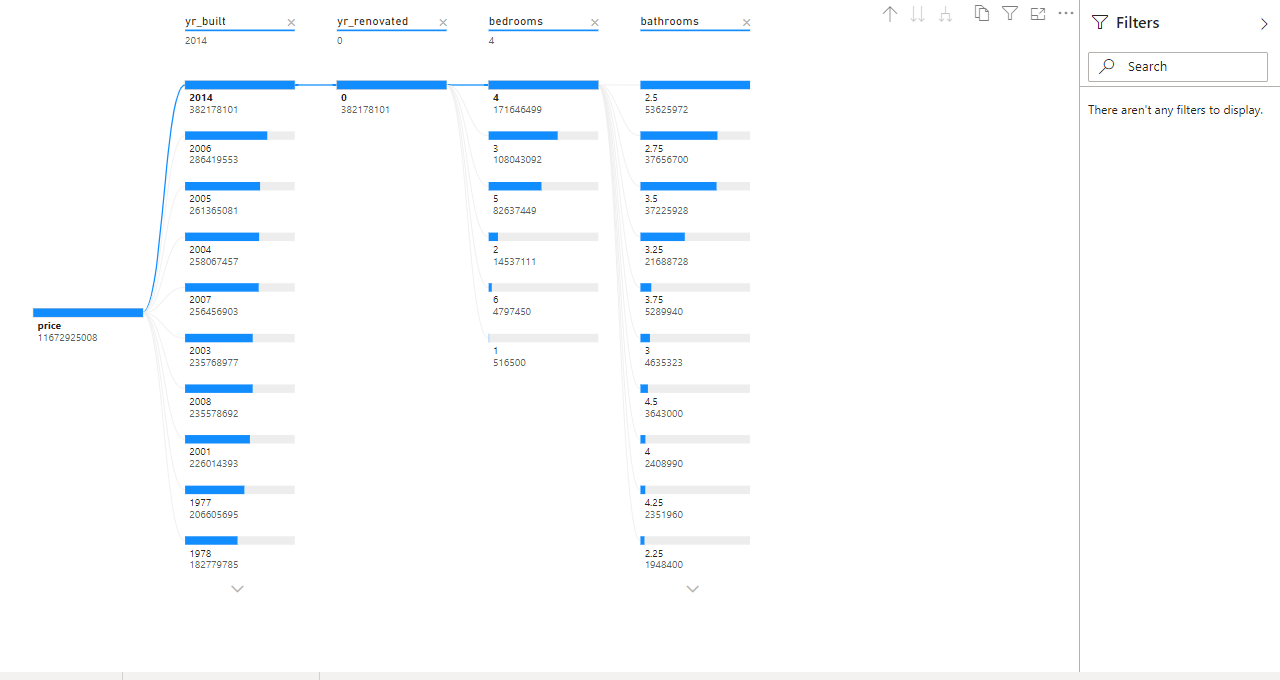

What the dashboard file says about the page in this screenshot:
{"tool":"powerbi","page":{"name":"Halaman 4","canvas":[1280,720],"ordinal":3},"visuals":[{"type":"decompositionTreeVisual","fields":{"Analyze":["Sum(Worksheet.price)"],"ExplainBy":["Worksheet.yr_built","Worksheet.yr_renovated","Worksheet.bedrooms","Worksheet.bathrooms"]},"box":[9.5,0,1270.5,719.5],"z":0}]}

Visuals, with their boxes on the page's 1280x720 design canvas (x1, y1, x2, y2). These are canvas units, not pixel positions in the 1280x680 screenshot, which may show the page scaled, cropped or inside an application window:
decompositionTreeVisual - Sum(Worksheet.price) x Worksheet.yr_built: <bbox>10, 0, 1280, 720</bbox>
